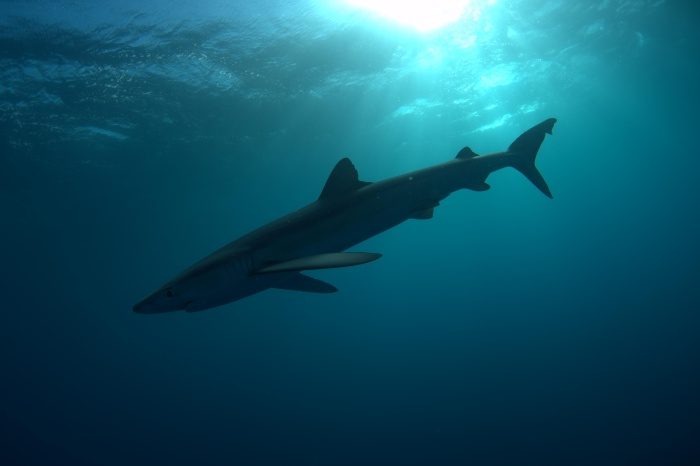Azul: (124, 111, 584, 335)
